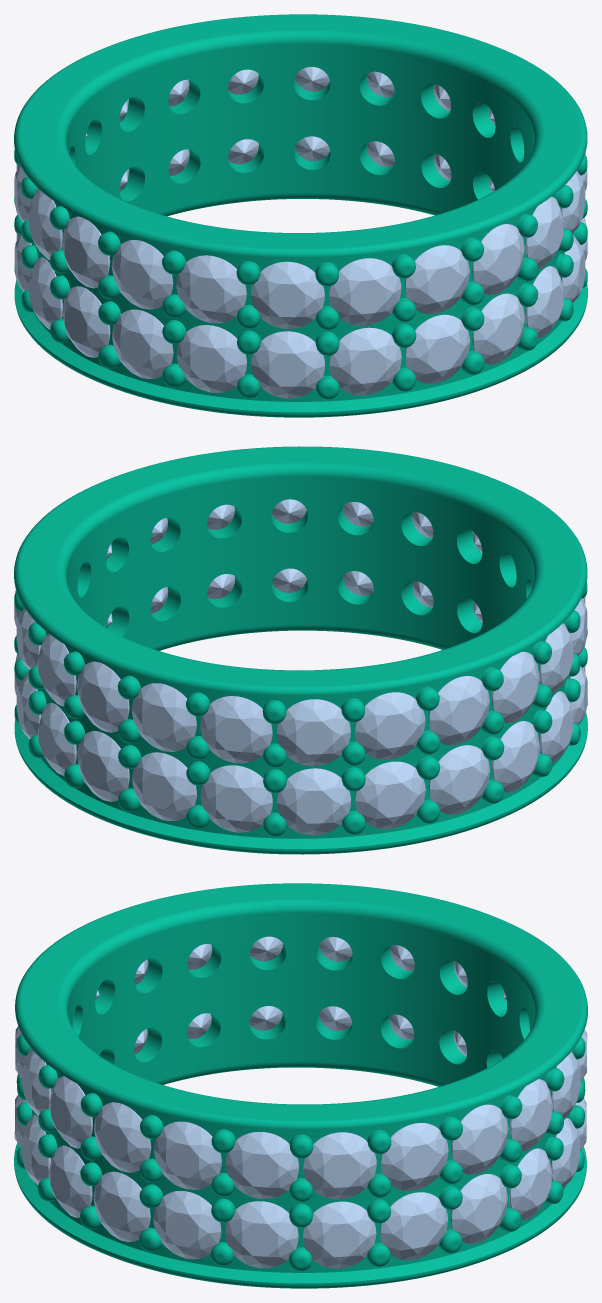
3 renders of one model, top to bottom at view 1: azimuth 30°, elevation 25°; view 2: azimuth 150°, elevation 25°; view 3: azimuth 270°, elevation 25°, orthographic.
Visible parts, largest first — view 1: VR-86(3)(base).3dm, Diamond_Round (×28); view 2: VR-86(3)(base).3dm, Diamond_Round (×28); view 3: VR-86(3)(base).3dm, Diamond_Round (×24).
Boxes of the visible parts, bbox=[...] form: VR-86(3)(base).3dm: bbox=[14, 14, 587, 417]; Diamond_Round (×28): bbox=[14, 67, 585, 398]; VR-86(3)(base).3dm: bbox=[14, 446, 587, 854]; Diamond_Round (×28): bbox=[16, 499, 587, 835]; VR-86(3)(base).3dm: bbox=[14, 883, 587, 1288]; Diamond_Round (×24): bbox=[21, 936, 580, 1268].
Bounding box in the file's own units: 2.75 × 0.9048 × 2.76.
